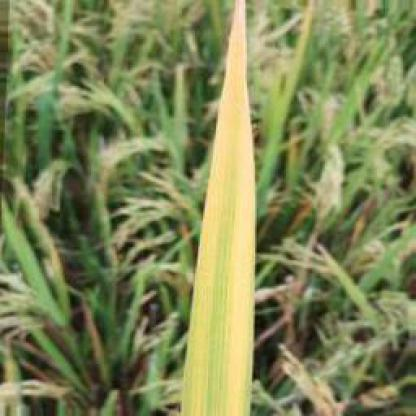Tungro: (178, 1, 258, 413)
